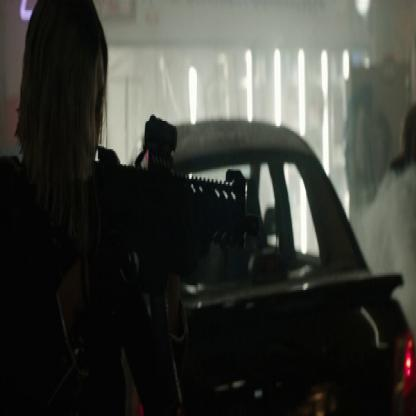Gun: (55, 111, 261, 414)
